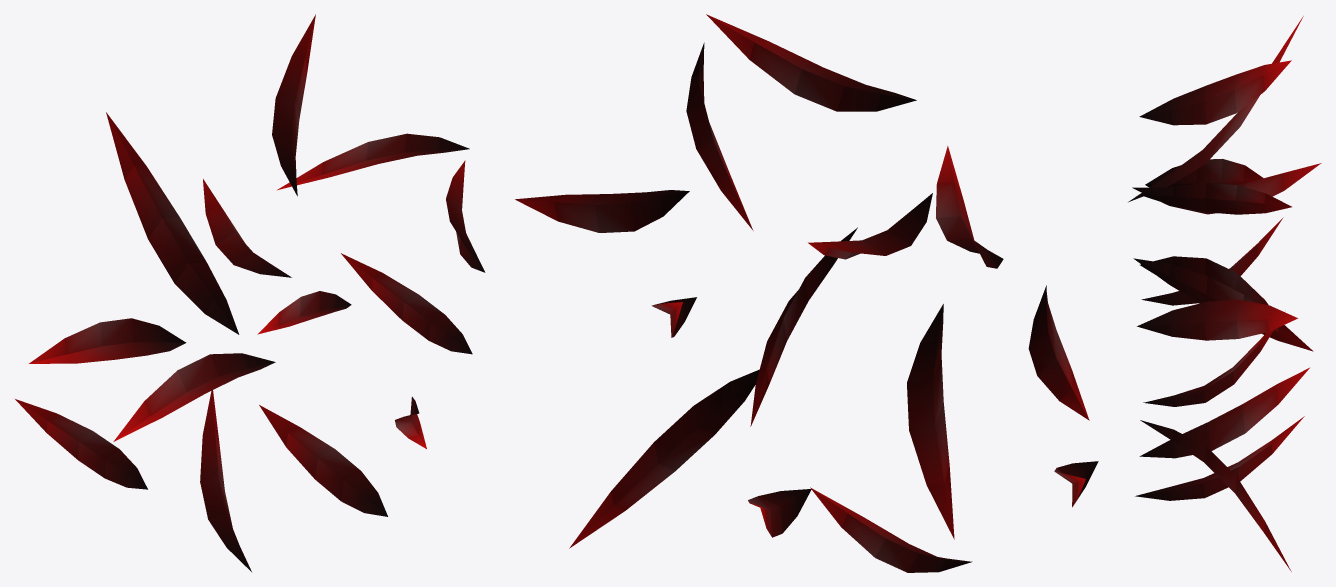
File: Grass_3D_3.fbx
The picture shows the model from 3 angles, left to right: view 1: azimuth 30°, elevation 25°; view 2: azimuth 150°, elevation 25°; view 3: azimuth 270°, elevation 25°; orthographic projection. The views are drawn at different scales.
Visible parts, largest first — view 1: Rumput_3d; view 2: Rumput_3d; view 3: Rumput_3d.
Boxes of the visible parts, <box> form: Rumput_3d: <box>15,14,485,571</box>; Rumput_3d: <box>515,14,1098,572</box>; Rumput_3d: <box>1128,16,1321,571</box>.
Size of the model in its own units: 278 by 272 by 103.
